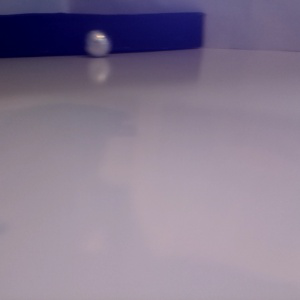zone: (1, 12, 204, 59)
